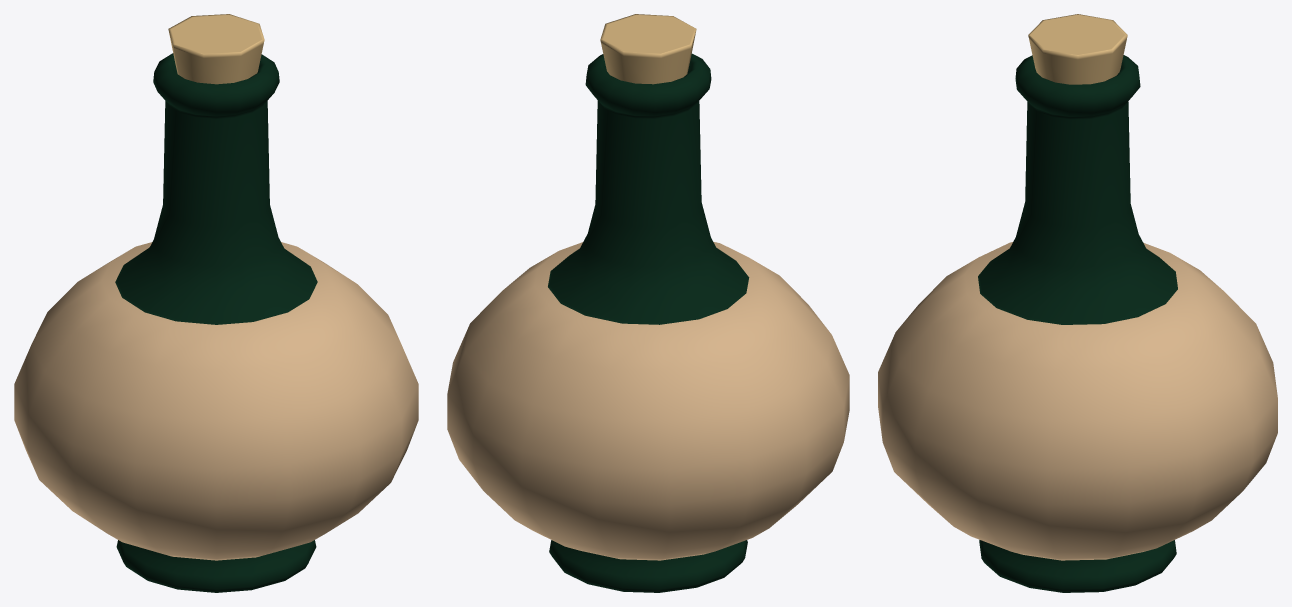
File: HempBecker.fbx
3 views of the same model, side by side, from view 1: azimuth 30°, elevation 25°; view 2: azimuth 150°, elevation 25°; view 3: azimuth 270°, elevation 25° (orthographic).
Visible parts, largest first — view 1: HempBecker_LOD0; view 2: HempBecker_LOD0; view 3: HempBecker_LOD0.
Boxes of the visible parts, left/top/right/bottom form: HempBecker_LOD0: left=14, top=14, right=418, bottom=592; HempBecker_LOD0: left=447, top=14, right=849, bottom=592; HempBecker_LOD0: left=878, top=14, right=1277, bottom=592.
Size of what is drawn, in the model's own units: 124 by 177 by 124.
